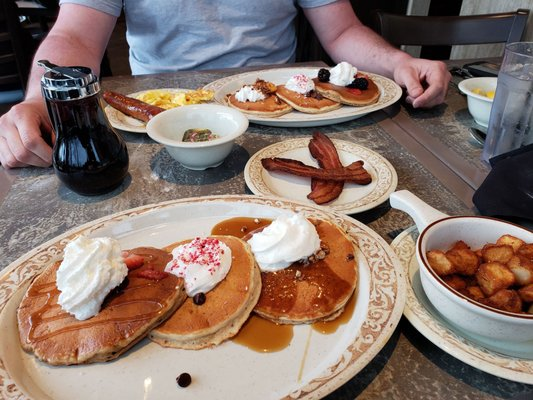soup: (149, 234, 263, 353)
sushi: (417, 216, 533, 359), (146, 103, 248, 170), (458, 76, 499, 128)
